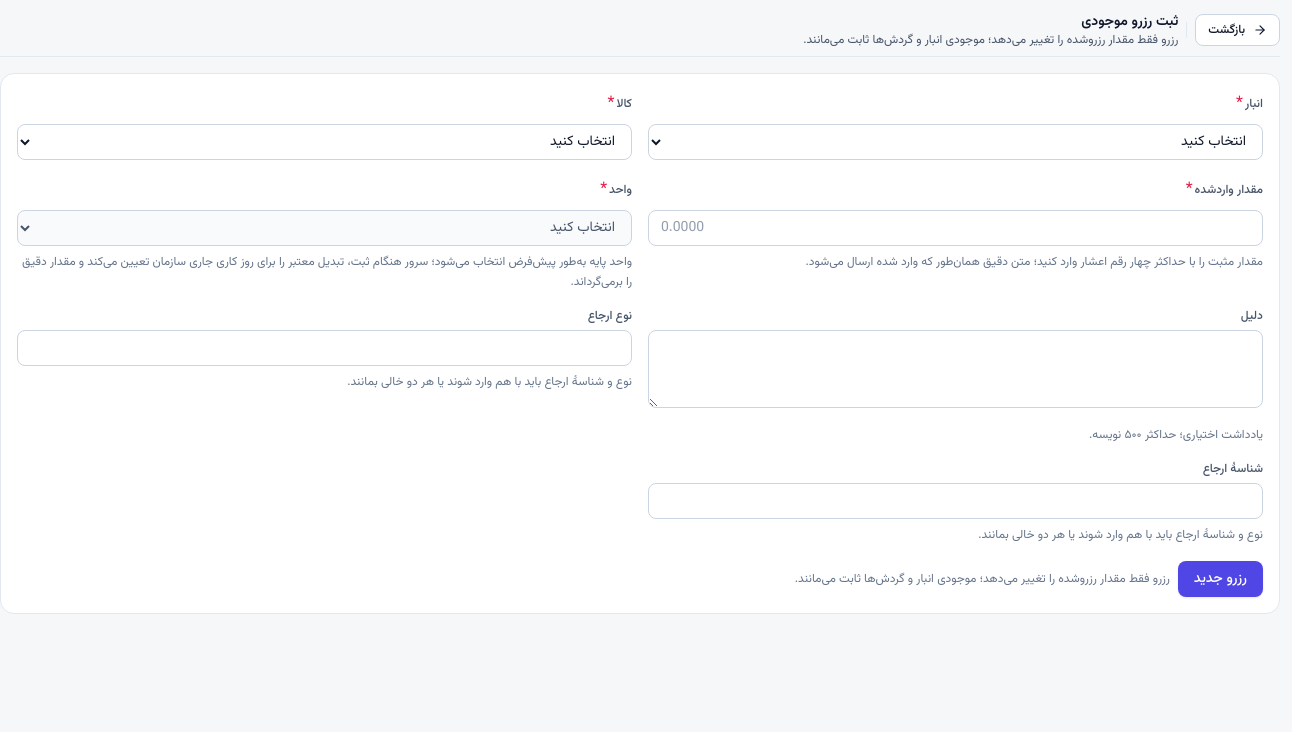
it: reservation create form › lets the backend decide a non-base unit conversion for its current business day
Select "WH-01 — انبار مرکزی" in the dropdown labelled "انبار". click: (956, 142)
box: [648,124,1263,160]
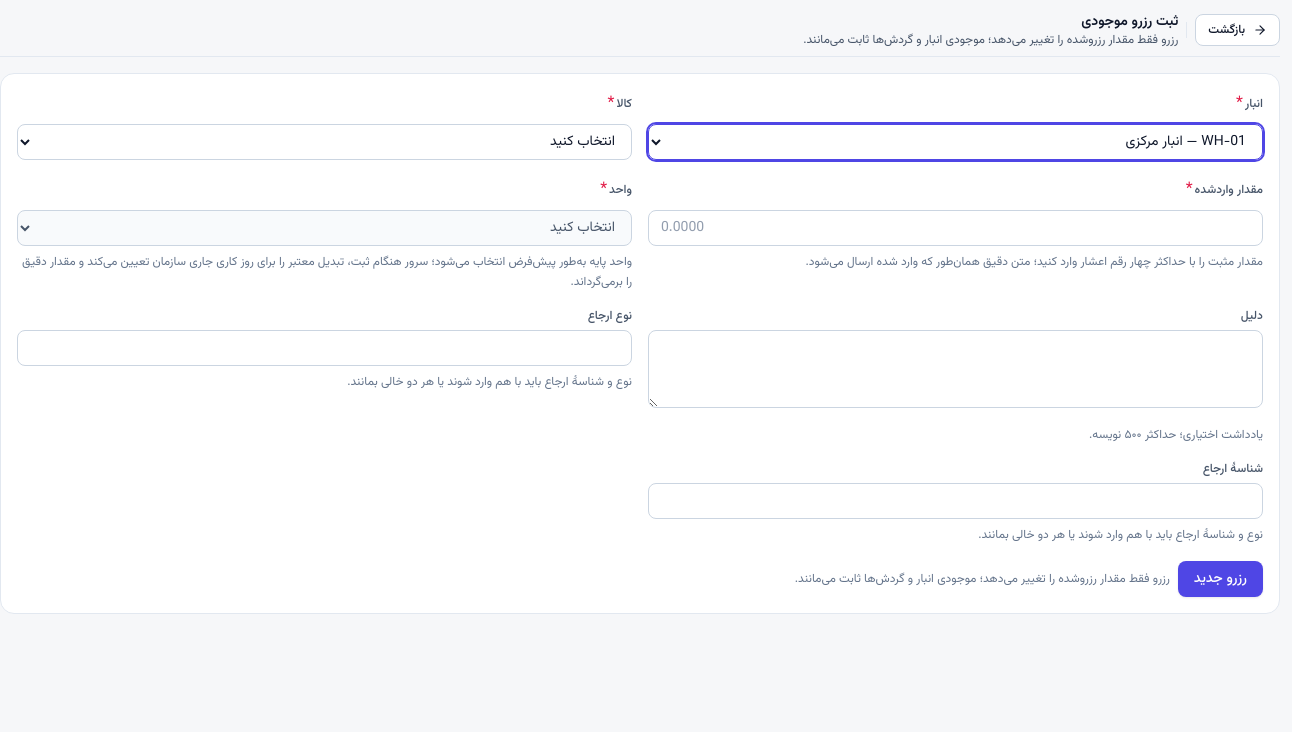
Select "KAL-01 — کالای نمونه" in the dropdown labelled "کالا". click: (324, 142)
box: [17,124,632,160]
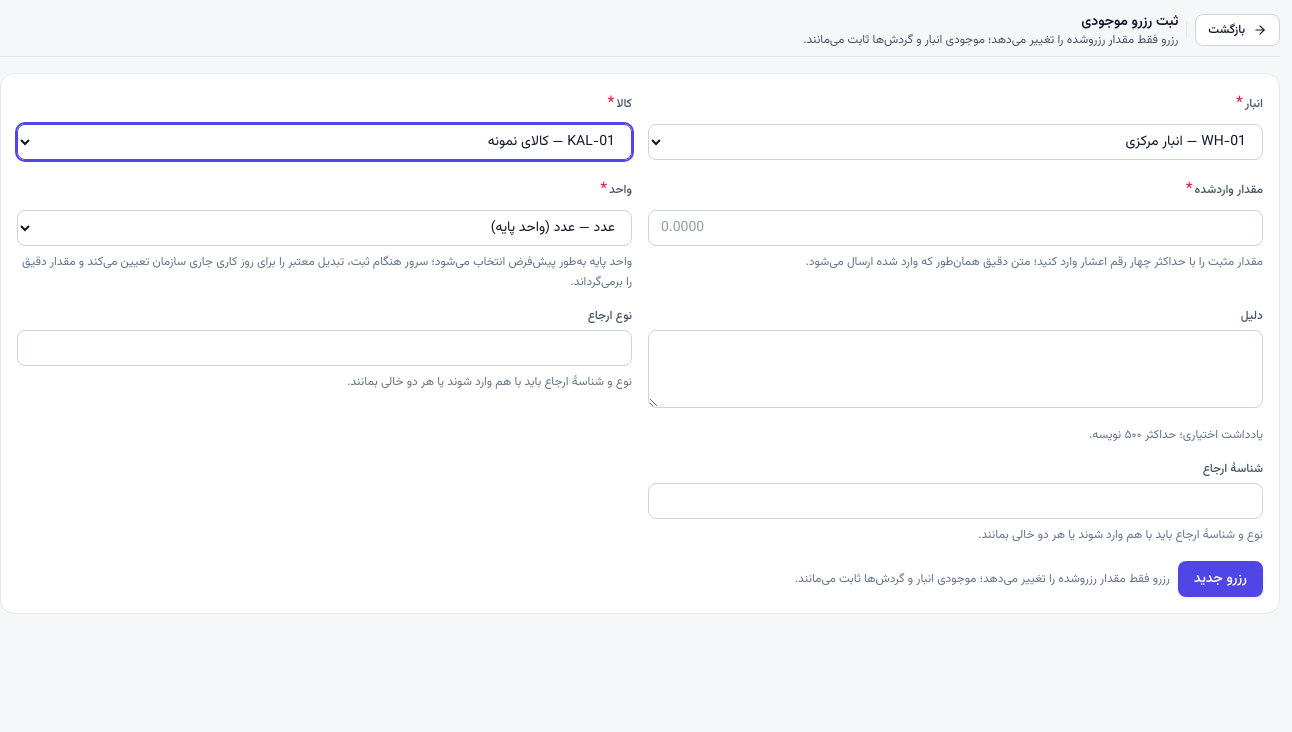
Type "2.5000" into the field labelled "مقدار واردشده". click: (956, 228)
box: [648,210,1263,246]
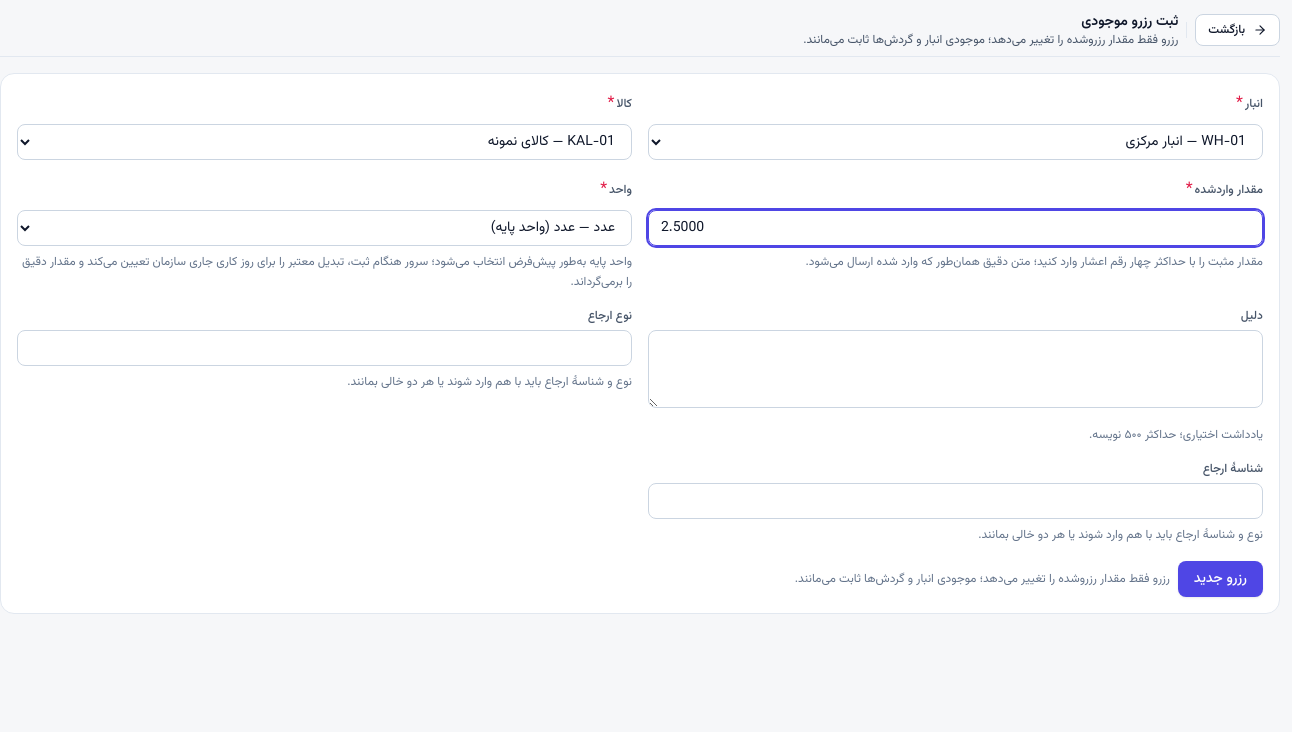
Select "عدد — عدد (واحد پایه)" in the dropdown labelled "واحد". click: (324, 228)
box: [17,210,632,246]
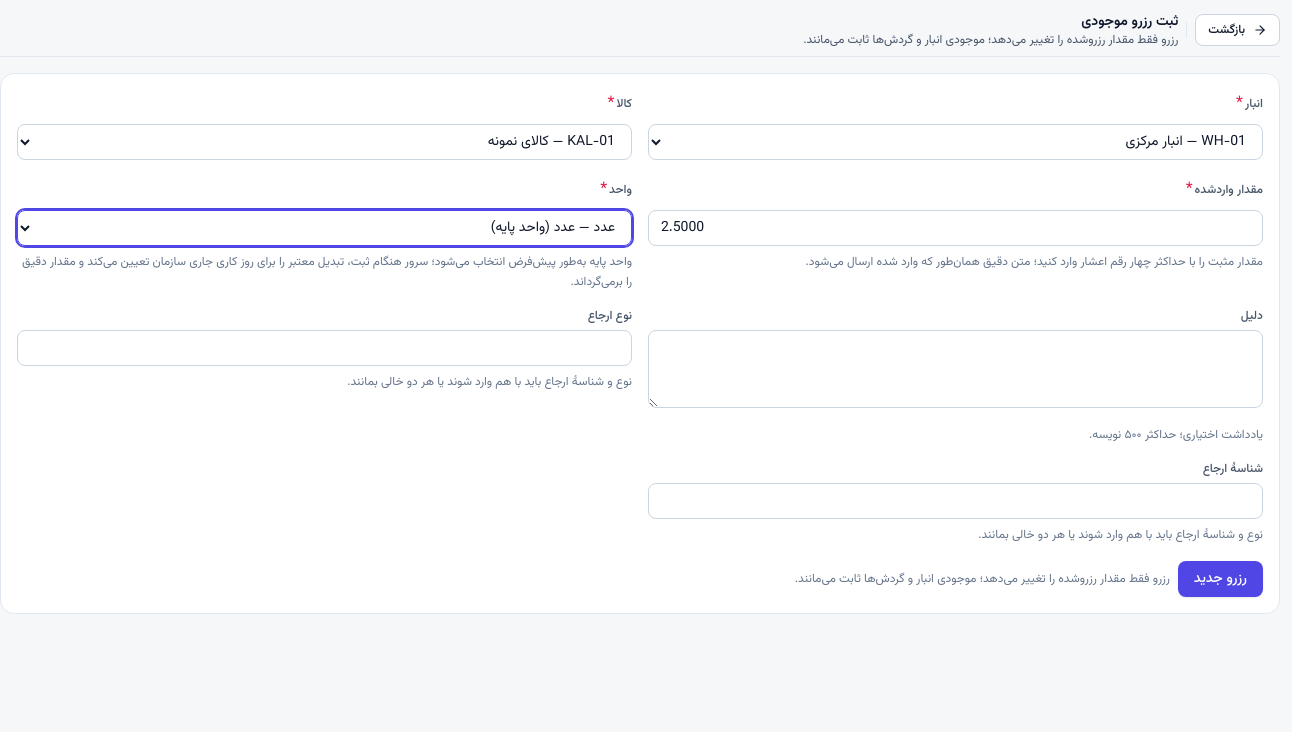
Select "بسته — بسته" in the dropdown labelled "واحد". click: (324, 228)
box: [17,210,632,246]
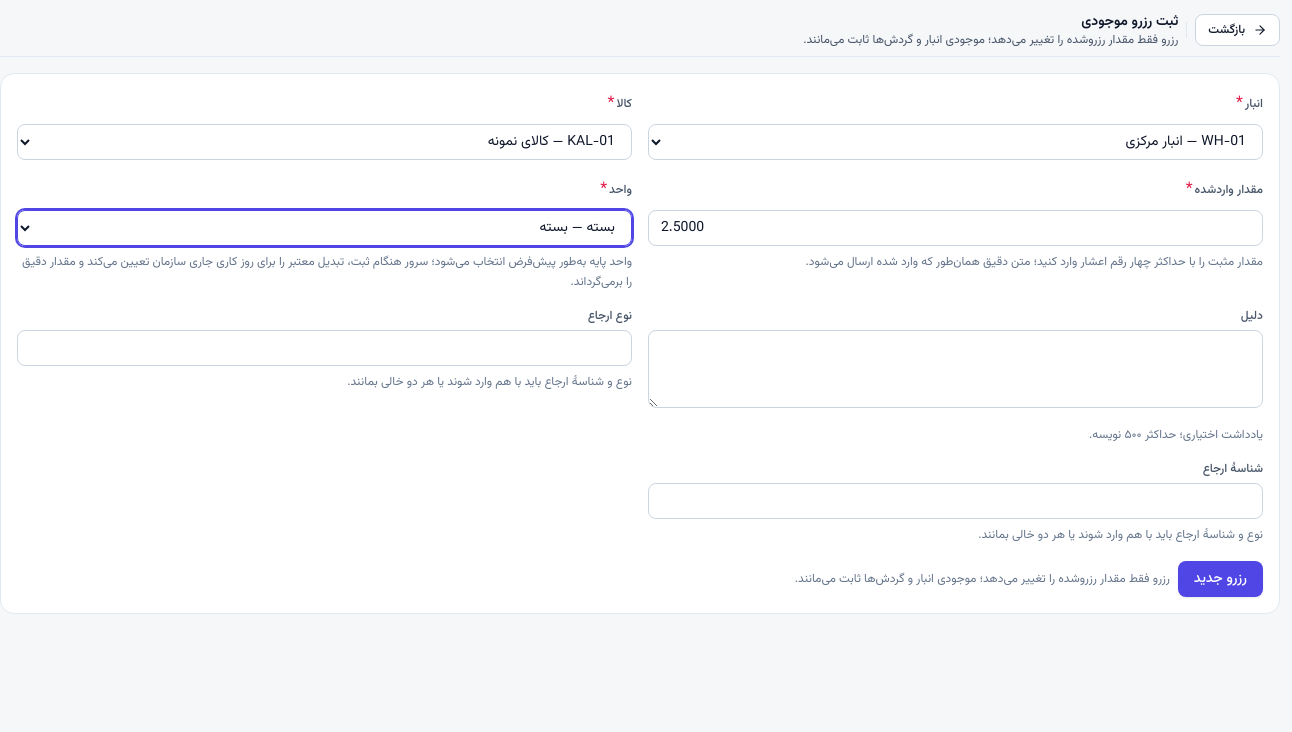
Click the button "رزرو جدید". click: (1220, 579)
box: [1178,561,1263,597]
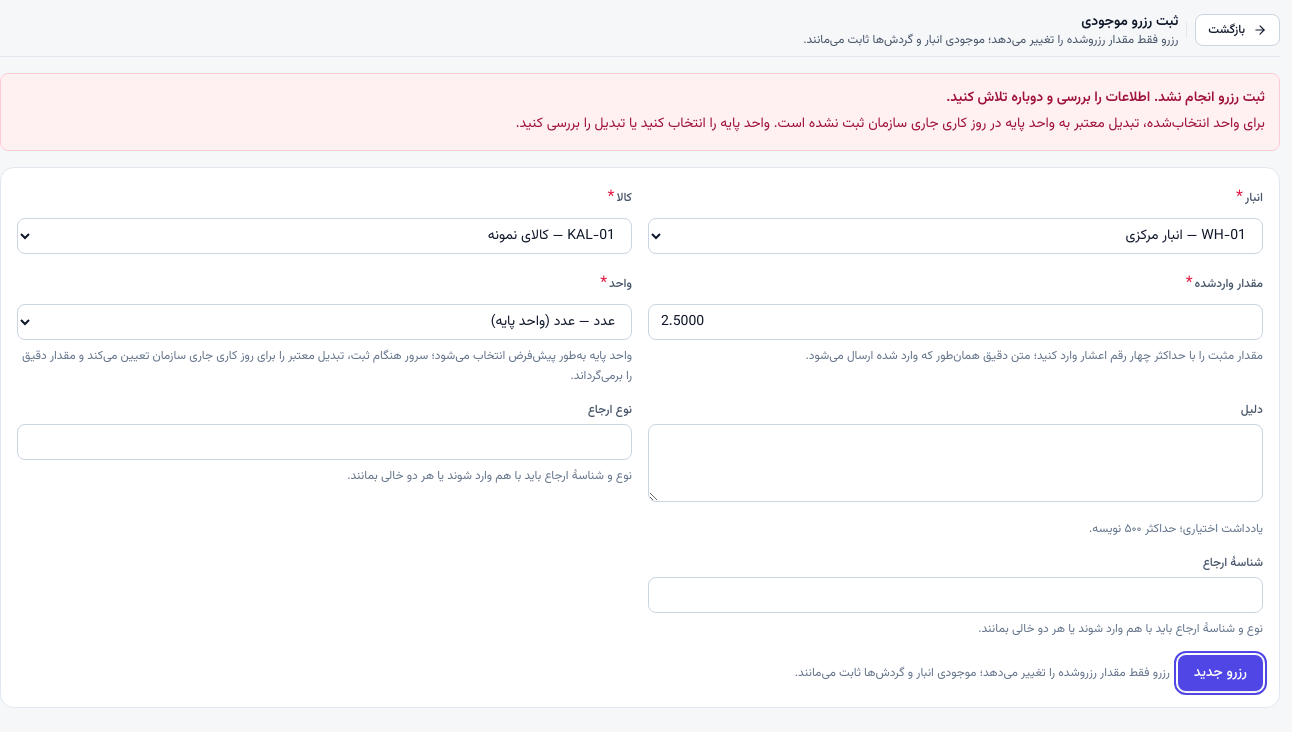
Expected: the text "برای واحد انتخاب‌شده، تبدیل معتبر به واحد پایه در روز کاری جاری سازمان ثبت نشده است. واحد پایه را انتخاب کنید یا تبدیل ر" is shown, [516,113,1265,135]
